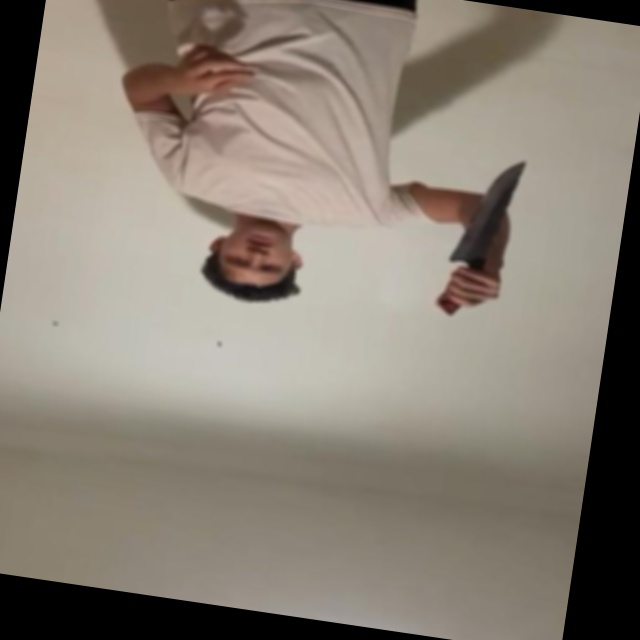Sharp-Object: (446, 154, 529, 274)
